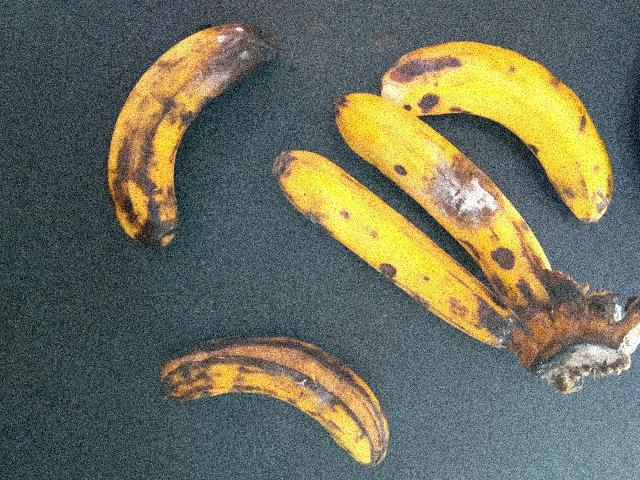overripe: (273, 151, 519, 352), (329, 92, 559, 306), (382, 32, 626, 210)
rotten: (80, 21, 296, 268), (138, 311, 428, 470)
